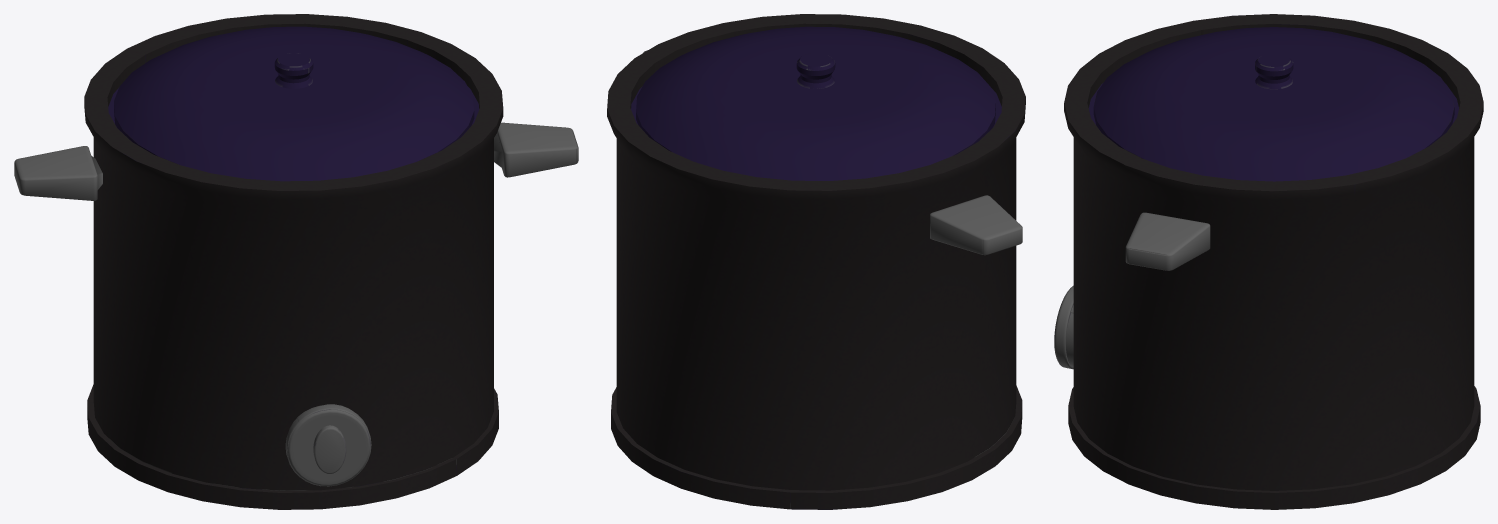
Rendered from KitchenCrockPot.001.fbx.
3 renders of one model, left to right at view 1: azimuth 30°, elevation 25°; view 2: azimuth 150°, elevation 25°; view 3: azimuth 270°, elevation 25°, orthographic.
Visible parts, largest first — view 1: KitchenCrockPot.001_Baked; view 2: KitchenCrockPot.001_Baked; view 3: KitchenCrockPot.001_Baked.
Part boxes in pixels (<box>): KitchenCrockPot.001_Baked: <box>14,14,578,509</box>; KitchenCrockPot.001_Baked: <box>607,14,1025,509</box>; KitchenCrockPot.001_Baked: <box>1054,14,1483,509</box>.
Size of the model in its own units: 34.18 by 25.5 by 27.35.
Materials: 1 (1 with a texture image).
